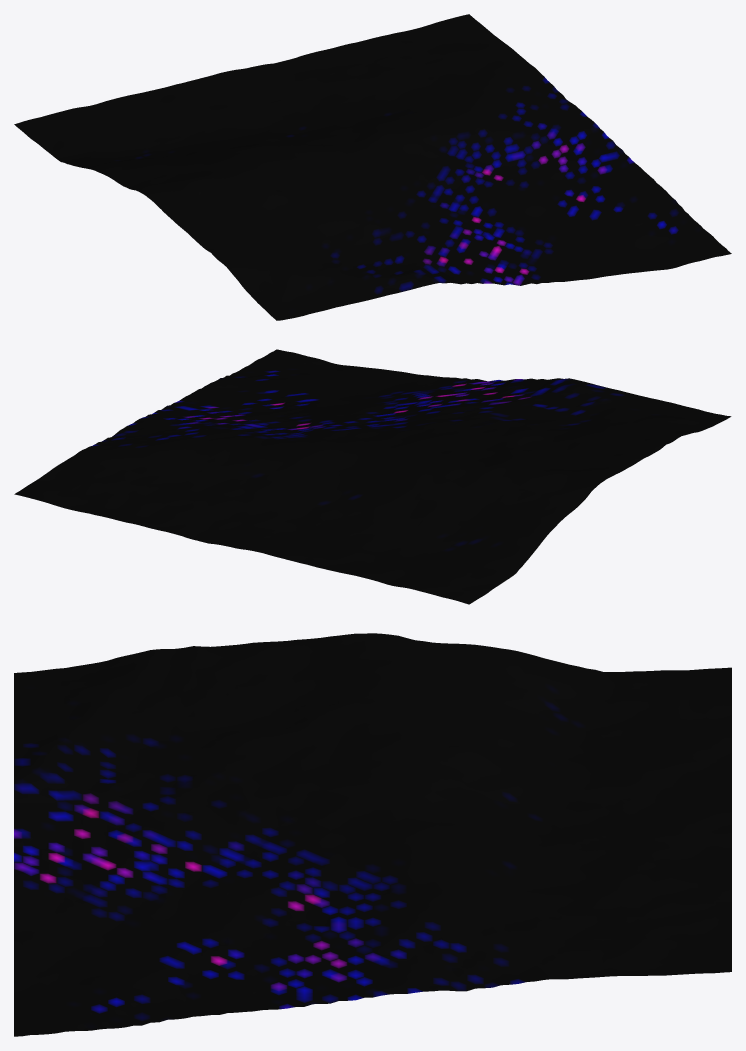
File: SM_AsirMountains_Terrain_2_0.fbx
3 views of the same model, one above another, from view 1: azimuth 30°, elevation 25°; view 2: azimuth 150°, elevation 25°; view 3: azimuth 270°, elevation 25° (orthographic). The views are drawn at different scales.
Parts seen in each view (by area): view 1: SM_AsirMountains_Terrain_2_0; view 2: SM_AsirMountains_Terrain_2_0; view 3: SM_AsirMountains_Terrain_2_0.
Boxes of the visible parts, x1,y1,x2,y2 form: SM_AsirMountains_Terrain_2_0: (14, 14, 731, 320); SM_AsirMountains_Terrain_2_0: (14, 349, 731, 604); SM_AsirMountains_Terrain_2_0: (14, 633, 731, 1036).
Bounding box in the file's own units: 50400 × 7771 × 50400.
